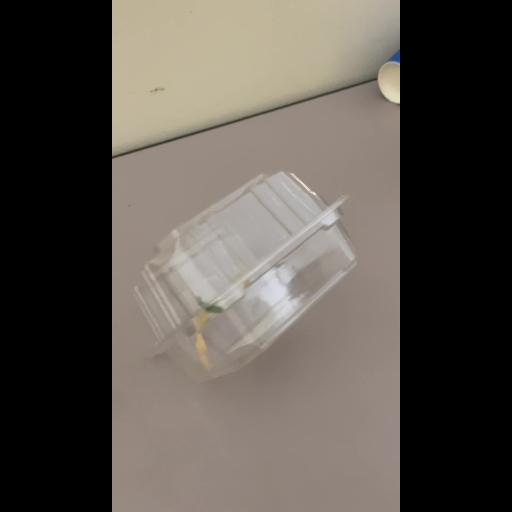small_plastic_container: (134, 173, 358, 377)
